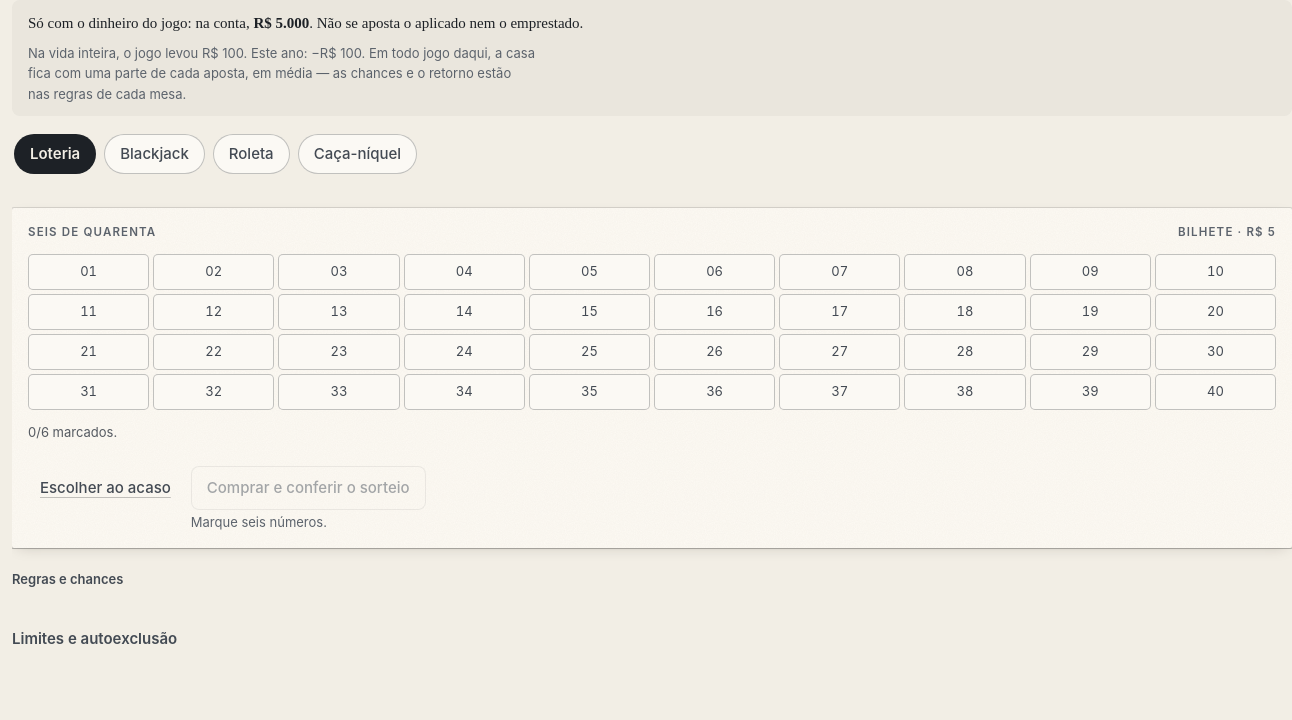
Scenario: JOG-01 · as mesas › o blackjack: com a mão na mesa, só pedir, parar e dobrar (não há botão de divisão sem regra); a carta da banca fica virada
Click the tab "Blackjack": (154, 154) [104,134,205,174]
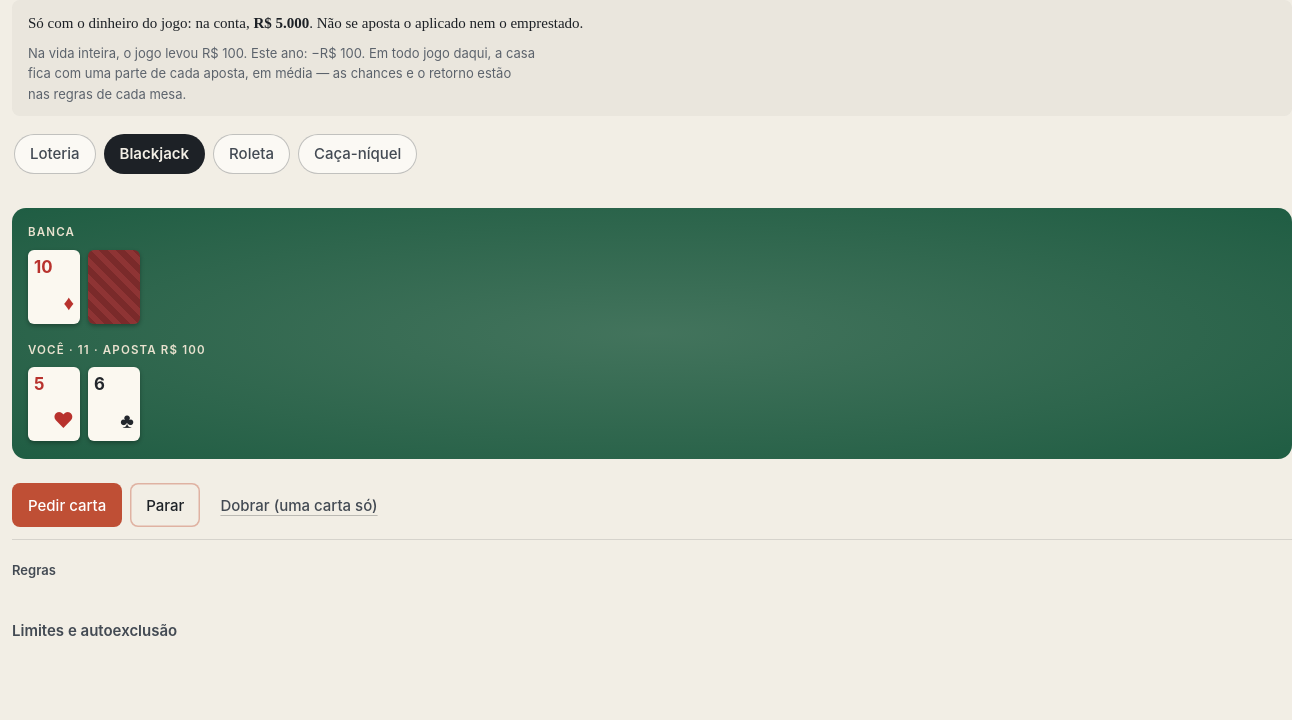
Check: the button "Pedir carta" is shown, box [12,483,122,527]
Check: the button "Parar" is shown, box [130,483,200,527]
Check: the button "Dobrar (uma carta só)" is shown, box [208,483,390,527]
